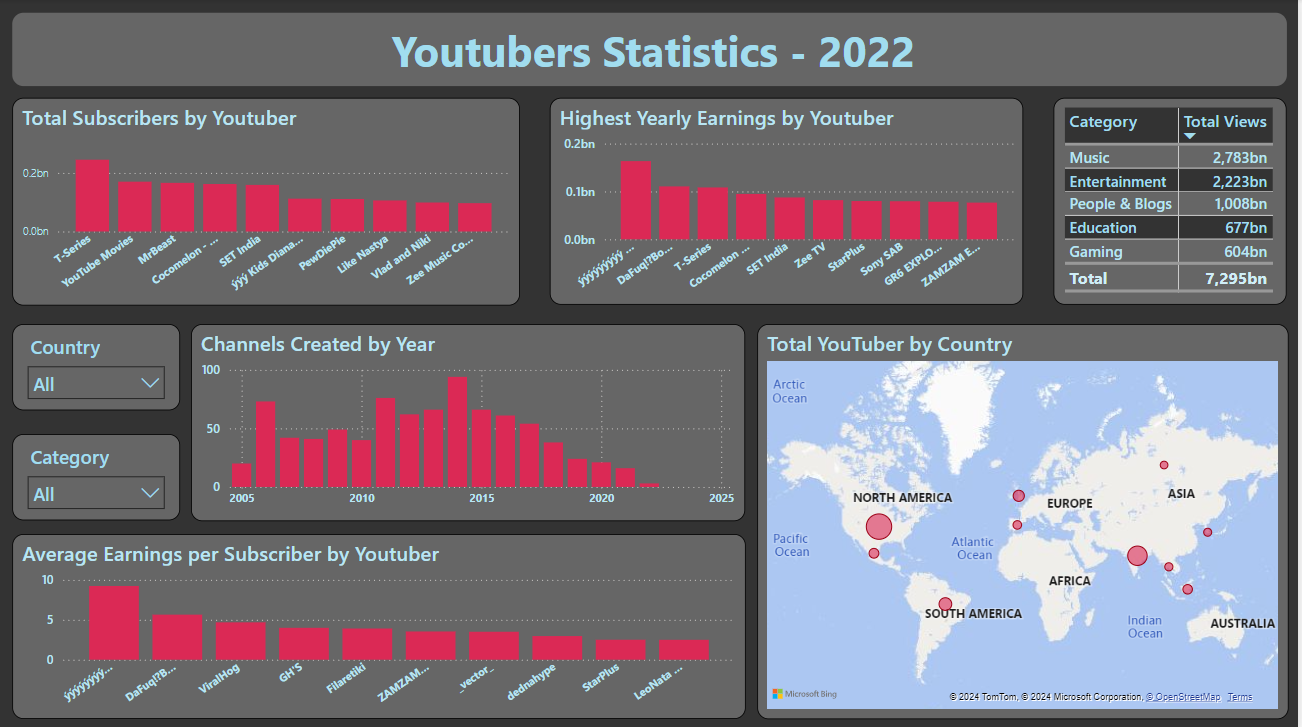

This screenshot's page, from the dashboard's own definition file:
{"tool":"powerbi","page":{"name":"Page 1","canvas":[1280,720],"ordinal":0},"visuals":[{"type":"clusteredColumnChart","fields":{"Category":["youtubers.Youtuber"],"Y":["Measure Table.Total Subscribers"]},"box":[16,96.9,498.2,203.7],"z":0},{"type":"clusteredColumnChart","title":"Highest Yearly Earnings by Youtuber","fields":{"Category":["youtubers.Youtuber"],"Y":["Measure Table.Total Highest Yearly Earnings"]},"box":[543.3,96.7,465.1,203.4],"z":1000},{"type":"map","fields":{"Category":["youtubers.Country"],"Size":["Measure Table.Total YouTuber"]},"box":[747.2,319,521.5,387.7],"z":2000},{"type":"tableEx","fields":{"Values":["youtubers.category","Measure Table.Total Video Views"]},"box":[1038.2,96.7,229,203.4],"z":3000},{"type":"clusteredColumnChart","title":"Channels Created by Year","fields":{"Category":["youtubers.created_year"],"Y":["Measure Table.Channels Created"]},"box":[191.9,318.9,543.9,193.3],"z":4000},{"type":"textbox","title":"Youtubers Statistics - 2022","box":[15.9,13,1250.9,72.1],"z":5000},{"type":"clusteredColumnChart","fields":{"Y":["Measure Table.Average Earnings per Subscriber"],"Category":["youtubers.Youtuber"]},"box":[15.9,525.2,719.9,181.8],"z":6000},{"type":"slicer","title":"Country","fields":{"Values":["youtubers.Country"]},"box":[15.9,318.9,164.5,85.1],"z":7000},{"type":"slicer","title":"Category","fields":{"Values":["youtubers.category"]},"box":[15.9,427.1,164.5,85.1],"z":8000}]}

Visuals, with their boxes in screenshot pixels (x1, y1, x2, y2), scaled from the page's 1280x720 canvas onto the 1302x727 screenshot:
clusteredColumnChart - youtubers.Youtuber x Measure Table.Total Subscribers: [x1=16, y1=98, x2=523, y2=304]
"Highest Yearly Earnings by Youtuber" clusteredColumnChart: [x1=553, y1=98, x2=1026, y2=303]
map - youtubers.Country x Measure Table.Total YouTuber: [x1=760, y1=322, x2=1291, y2=714]
tableEx - youtubers.category x Measure Table.Total Video Views: [x1=1056, y1=98, x2=1289, y2=303]
"Channels Created by Year" clusteredColumnChart: [x1=195, y1=322, x2=748, y2=517]
"Youtubers Statistics - 2022" textbox: [x1=16, y1=13, x2=1289, y2=86]
clusteredColumnChart - Measure Table.Average Earnings per Subscriber x youtubers.Youtuber: [x1=16, y1=530, x2=748, y2=714]
"Country" slicer: [x1=16, y1=322, x2=184, y2=408]
"Category" slicer: [x1=16, y1=431, x2=184, y2=517]
